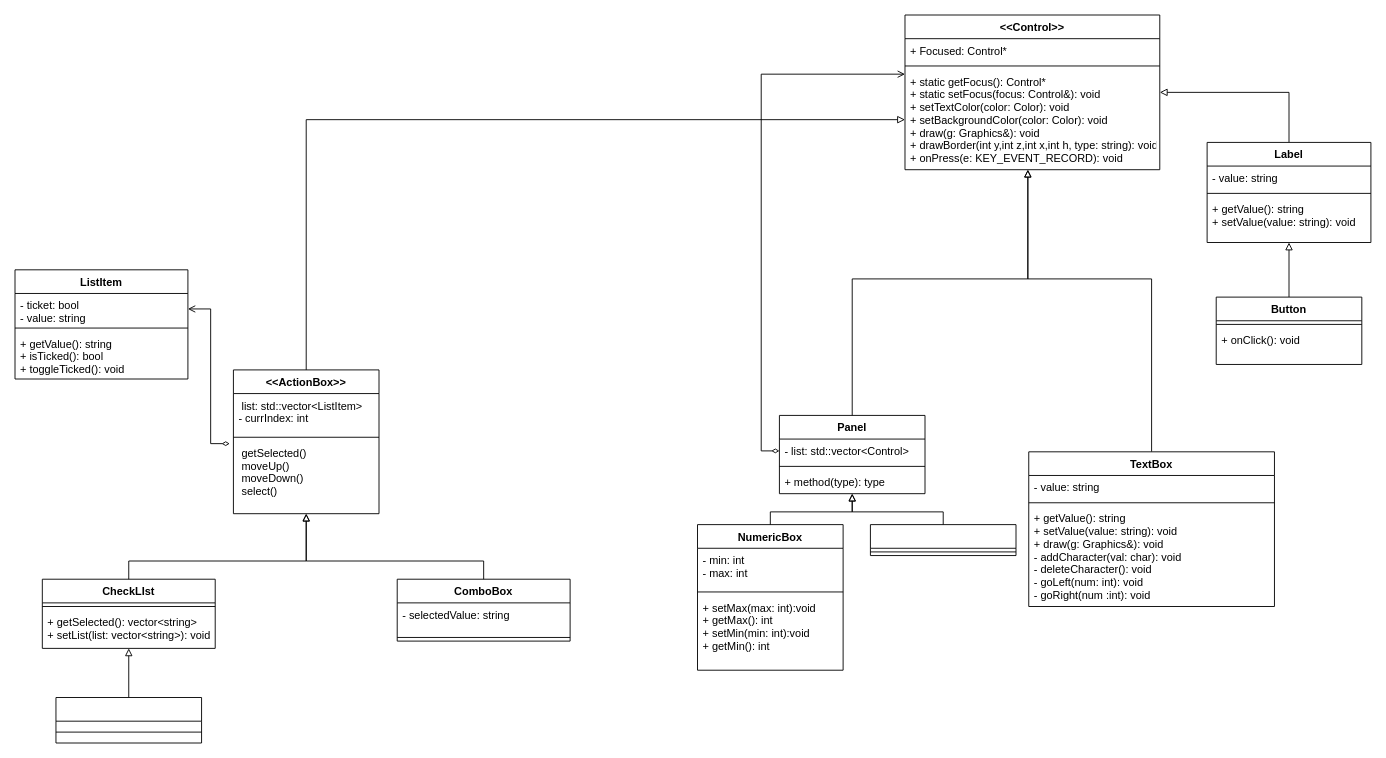
Image size: 1386x758. Some labels were removed from this diagram. The centre of each missing label's shape, as x and y in pixels:
MessageBox: point (943, 540)
RadioBox: point (128, 720)
